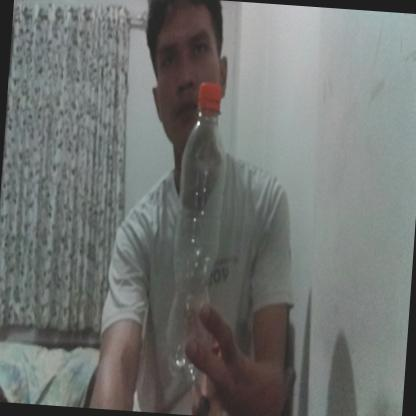plastic_bottles: (162, 77, 235, 388)
